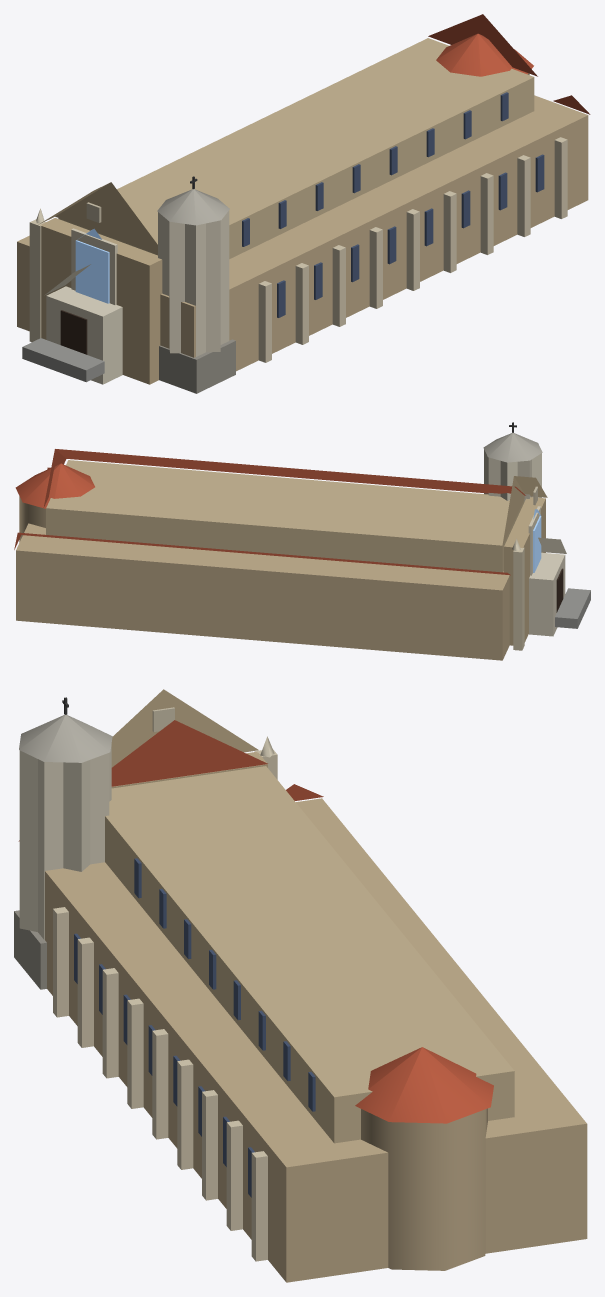
Rendered from eglise-sainte-jeanne-d-arc.glb.
3 views of the same model, one above another, from view 1: azimuth 30°, elevation 25°; view 2: azimuth 150°, elevation 25°; view 3: azimuth 270°, elevation 25° (orthographic). The views are drawn at different scales.
Parts seen in each view (by area): view 1: Église Sainte-Jeanne d'Arc; view 2: Église Sainte-Jeanne d'Arc; view 3: Église Sainte-Jeanne d'Arc.
Boxes of the visible parts, x1,y1,x2,y2 form: Église Sainte-Jeanne d'Arc: (17, 14, 590, 393); Église Sainte-Jeanne d'Arc: (14, 422, 590, 660); Église Sainte-Jeanne d'Arc: (14, 689, 587, 1282).
Size of the model in its own units: 74.15 by 23.4 by 45.35.
